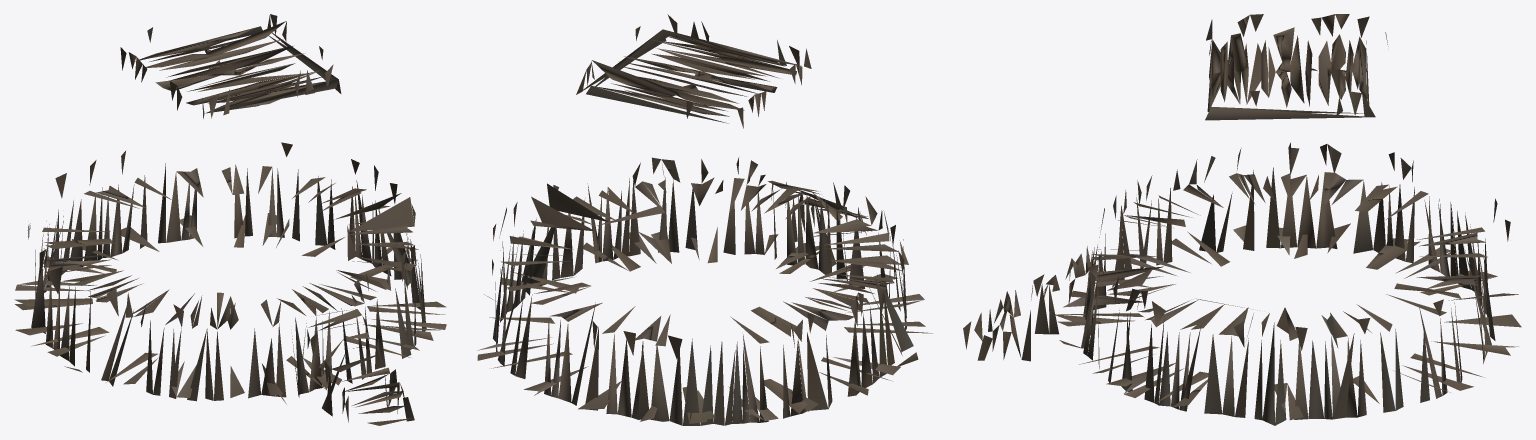
The model's file is monumento_d_lejos.glb.
The picture shows the model from 3 angles, left to right: view 1: azimuth 30°, elevation 25°; view 2: azimuth 150°, elevation 25°; view 3: azimuth 270°, elevation 25°; orthographic projection. The views are drawn at different scales.
Parts seen in each view (by area): view 1: monumento_d_lejos; view 2: monumento_d_lejos; view 3: monumento_d_lejos.
Part boxes in pixels (<box>): monumento_d_lejos: <box>14,14,446,425</box>; monumento_d_lejos: <box>477,14,932,425</box>; monumento_d_lejos: <box>963,14,1521,425</box>.
Size of the model in its own units: 10.52 by 7.22 by 12.48.
